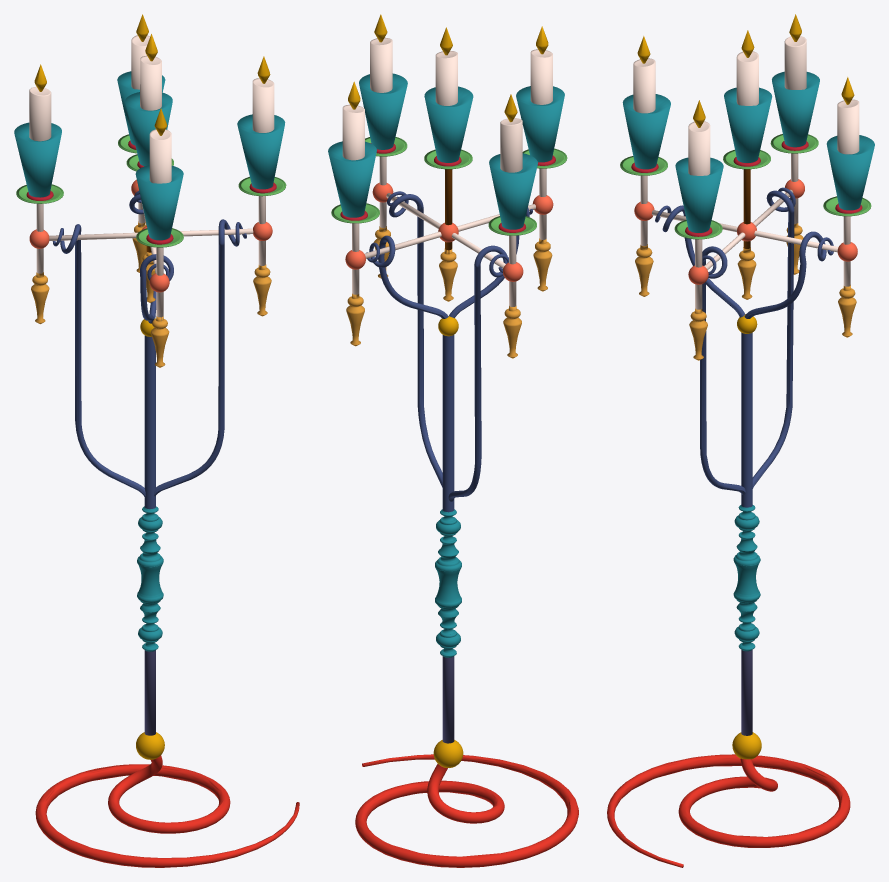
File: Candelabra2.fbx
3 views of the same model, side by side, from view 1: azimuth 30°, elevation 25°; view 2: azimuth 150°, elevation 25°; view 3: azimuth 270°, elevation 25° (orthographic). The views are drawn at different scales.
Visible parts, largest first — view 1: Candelabra2; view 2: Candelabra2; view 3: Candelabra2.
Boxes of the visible parts, box(x1,y1,x2,y2) form: Candelabra2: box(14, 14, 299, 867); Candelabra2: box(328, 14, 578, 867); Candelabra2: box(607, 14, 874, 867).
Bounding box in the file's own units: 0.5273 × 1.74 × 0.5379.
